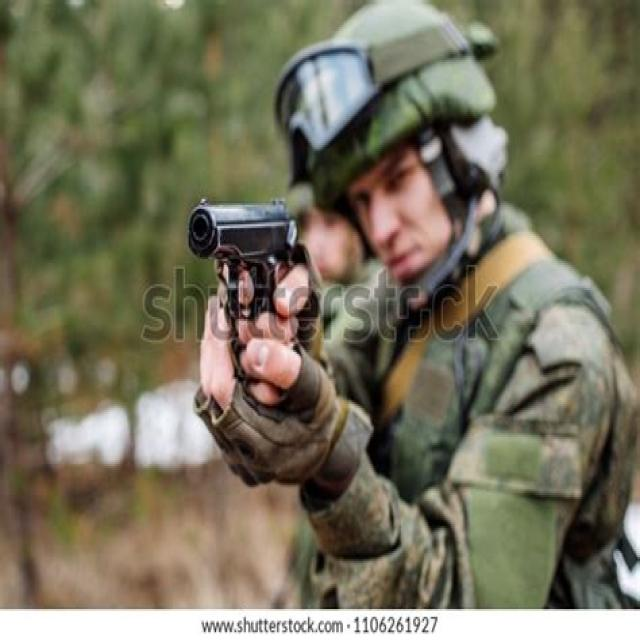weapons: (175, 172, 308, 356)
